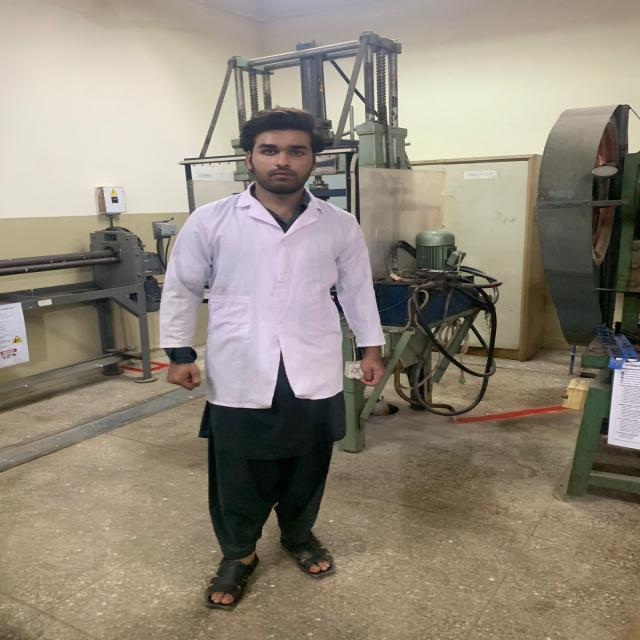labcoat: (158, 182, 388, 410)
